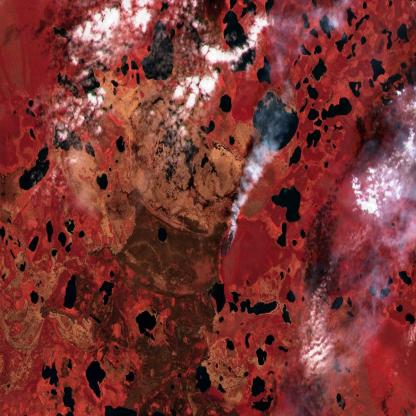fire: (219, 217, 238, 263)
